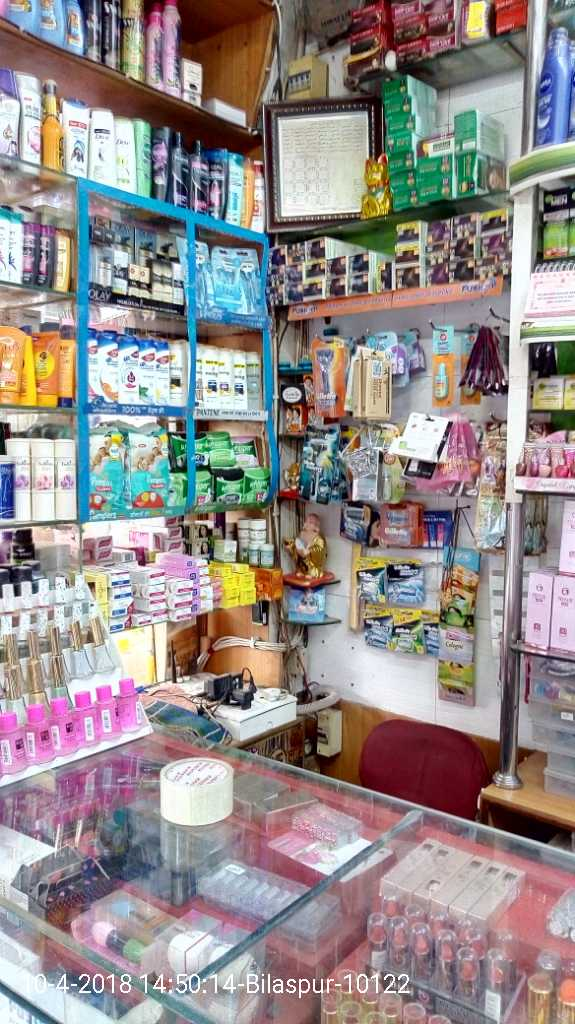gillete: (300, 423, 340, 501), (314, 337, 342, 417), (382, 501, 421, 549), (332, 504, 374, 543), (363, 603, 393, 656), (388, 560, 425, 602), (393, 611, 426, 656), (353, 560, 388, 601), (426, 611, 438, 657)
venus: (227, 249, 260, 310), (197, 240, 214, 301), (216, 245, 226, 303)
